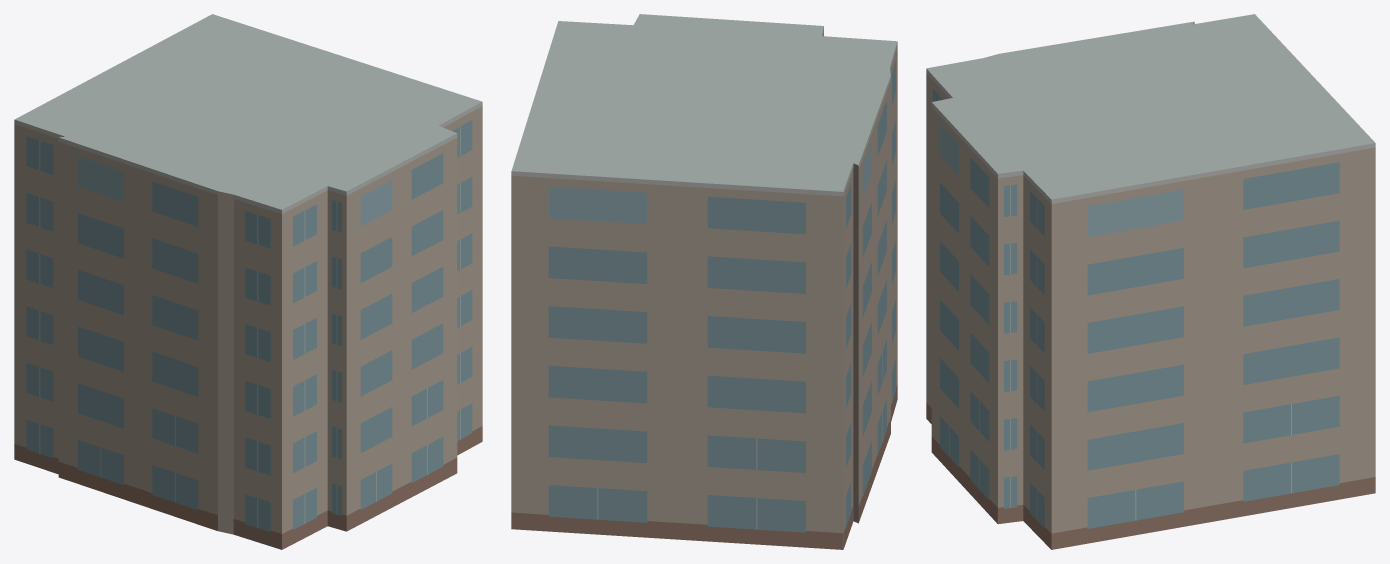
File: survey-upis-32833301.glb
3 renders of one model, left to right at view 1: azimuth 30°, elevation 25°; view 2: azimuth 150°, elevation 25°; view 3: azimuth 270°, elevation 25°, orthographic. The views are drawn at different scales.
Visible parts, largest first — view 1: survey-upis-32833301.tmp; view 2: survey-upis-32833301.tmp; view 3: survey-upis-32833301.tmp.
Part boxes in pixels (left/top/right/bottom): survey-upis-32833301.tmp: left=14, top=14, right=482, bottom=549; survey-upis-32833301.tmp: left=511, top=14, right=897, bottom=549; survey-upis-32833301.tmp: left=926, top=14, right=1375, bottom=549.
Bounding box in the file's own units: 21.84 × 19.2 × 22.33.
